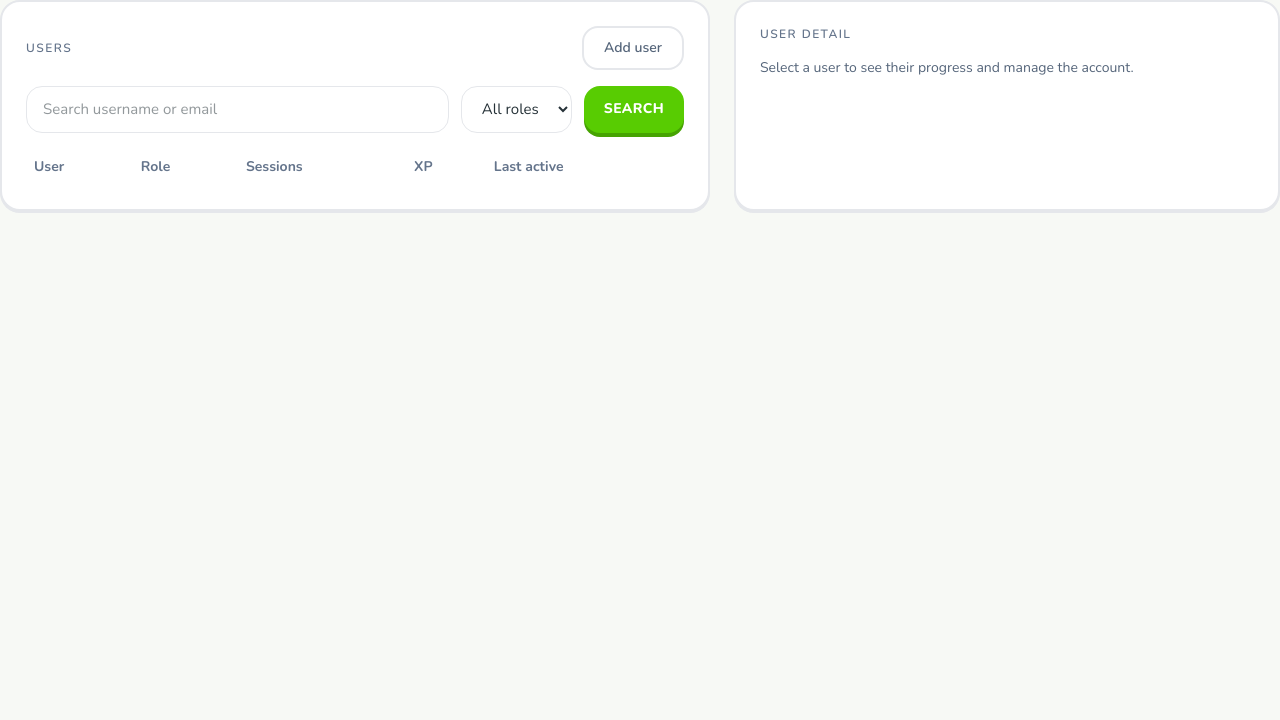
Test: UsersTab › creates an administrator through the admin-only API with the role the admin picked
Click the button "Add user" at [633, 48], box [582,26,684,70]
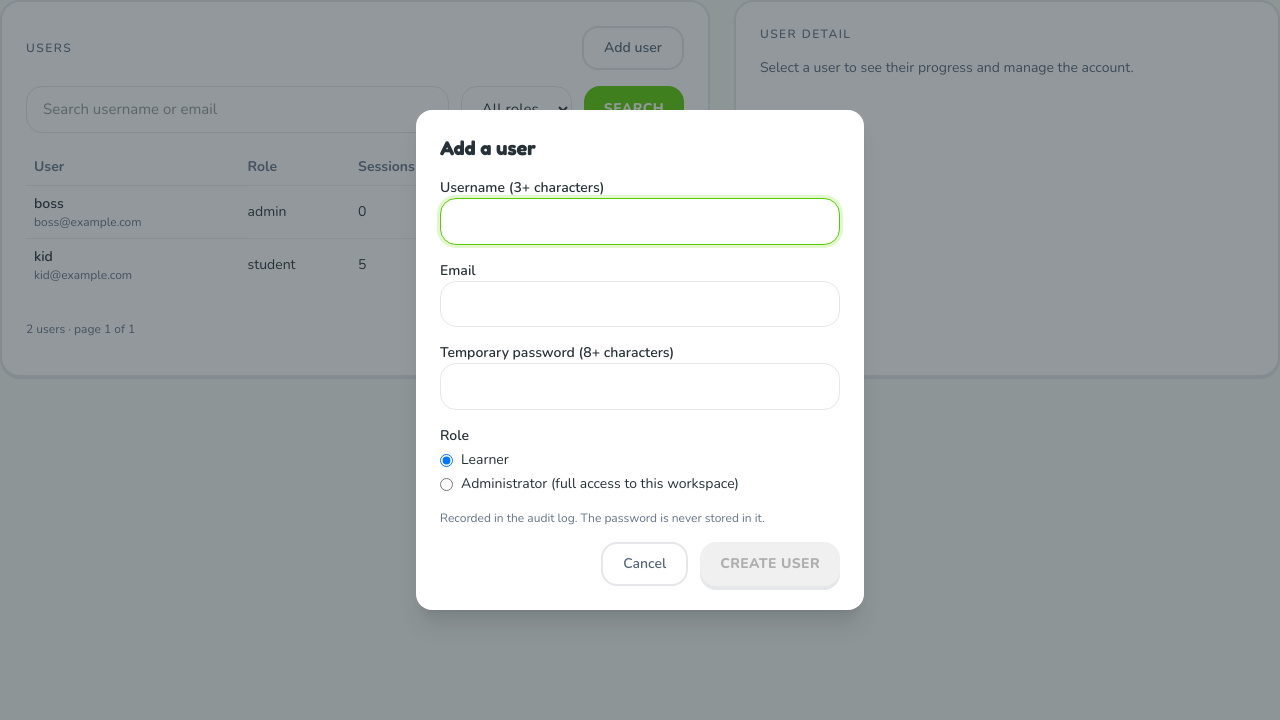
Now the button "Create user" is disabled, box [700,542,840,586]
Type "newadmin" into the field labelled "Username (3+ characters)" at [640, 221], box [440,198,840,245]
Type "n@example.com" into the field labelled "Email" at [640, 304], box [440,281,840,328]
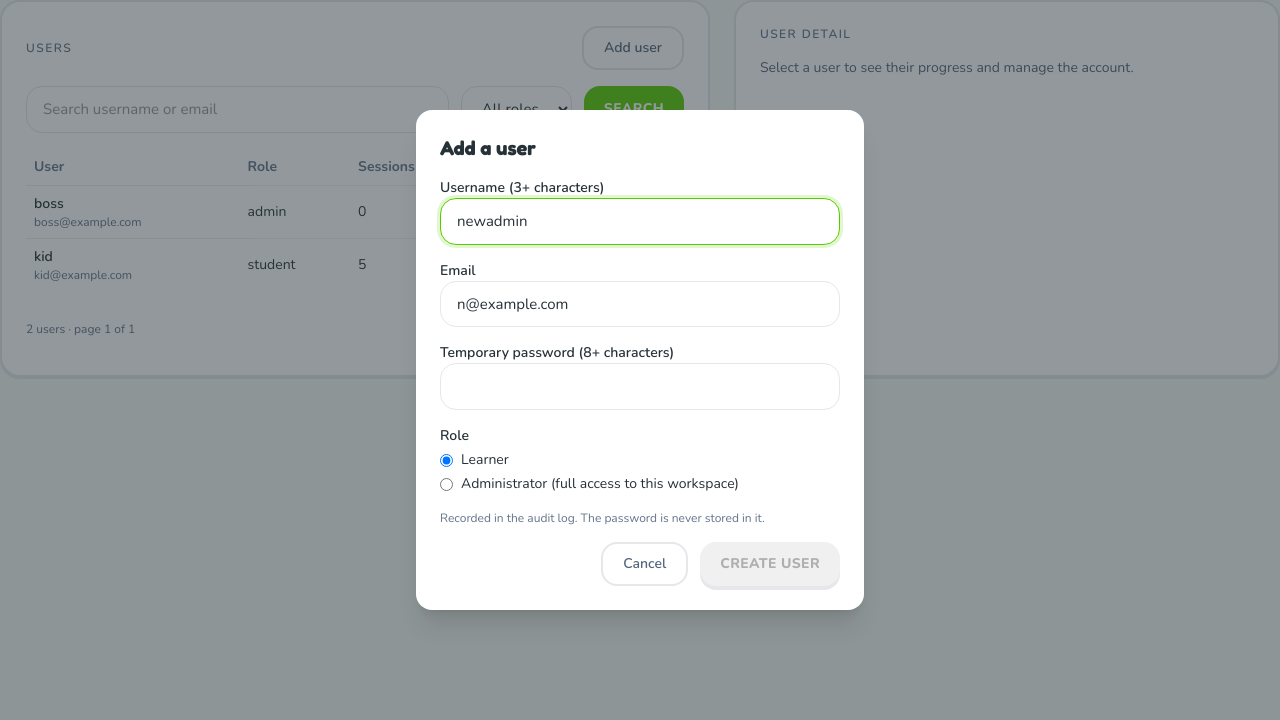
Type "short" into the password field labelled "Temporary password (8+ characters)" at [640, 387], box [440,363,840,410]
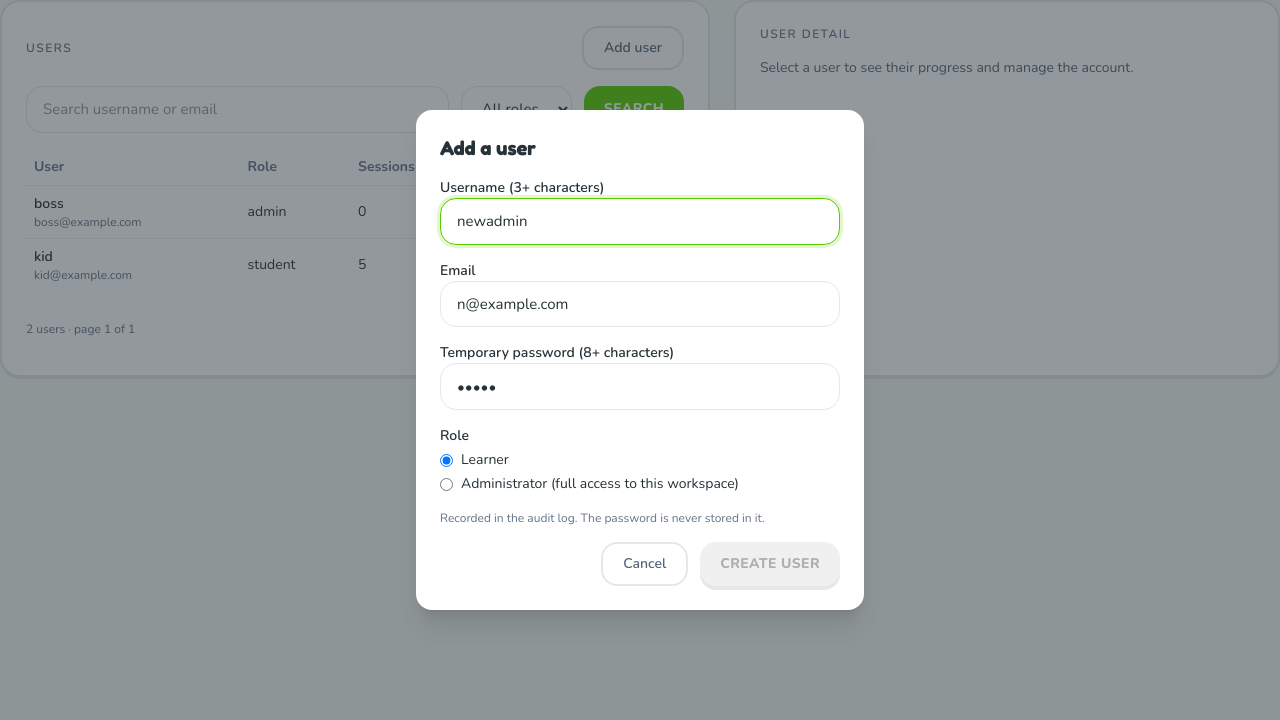
Now the button "Create user" is disabled, box [700,542,840,586]
Type "long-enough-1" into the password field labelled "Temporary password (8+ characters)" at [640, 387], box [440,363,840,410]
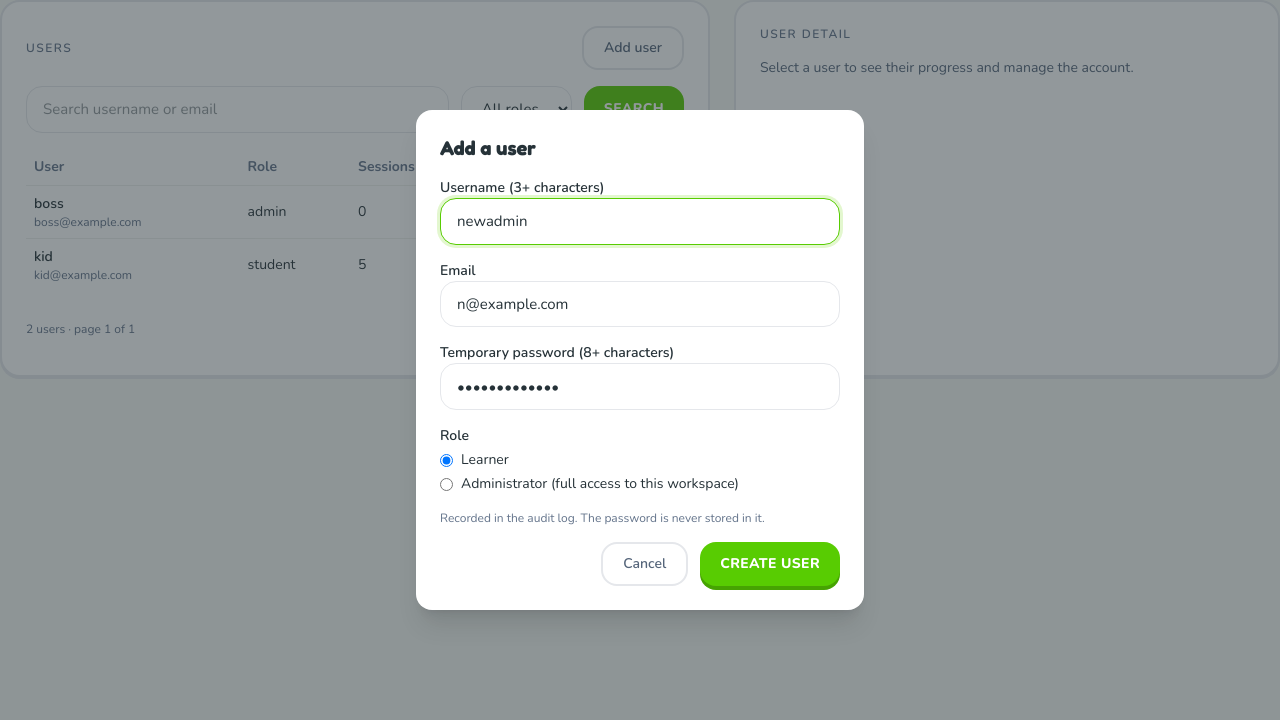
Click the radio button labelled "Administrator (full access to this workspace)" at [446, 484], box [440,478,453,491]
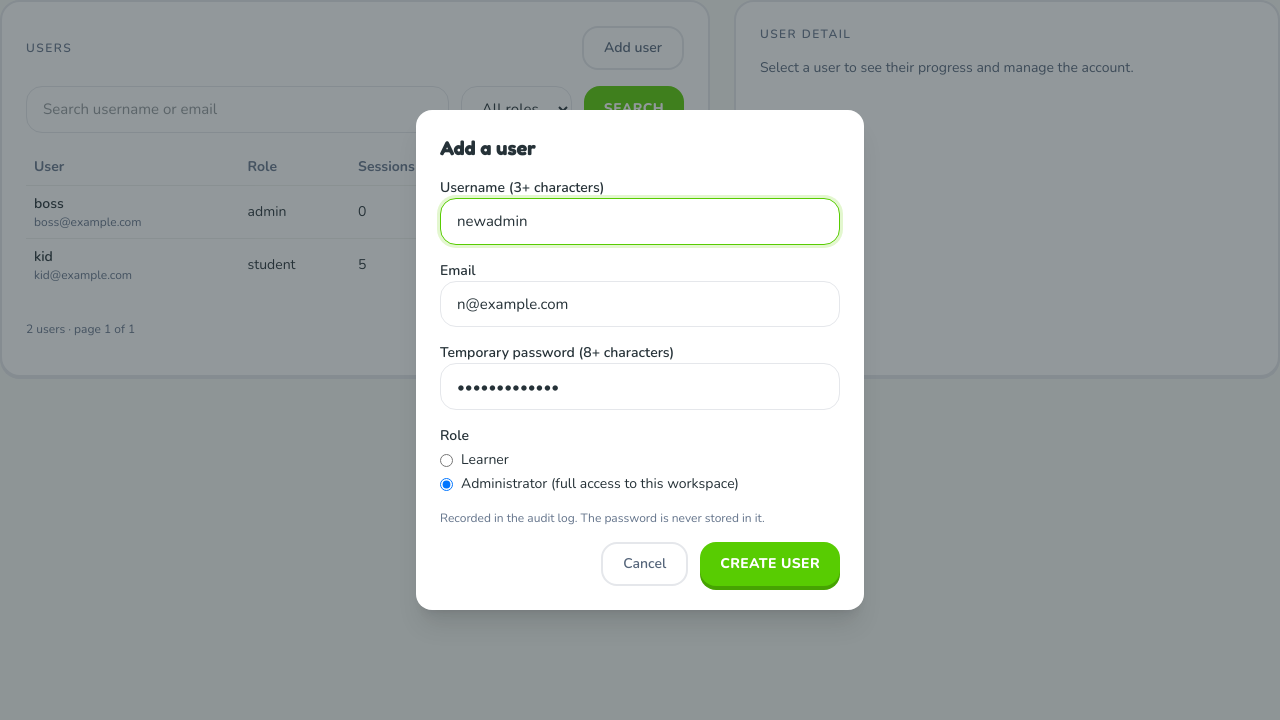
Click the button "Create user" at [770, 564], box [700,542,840,586]
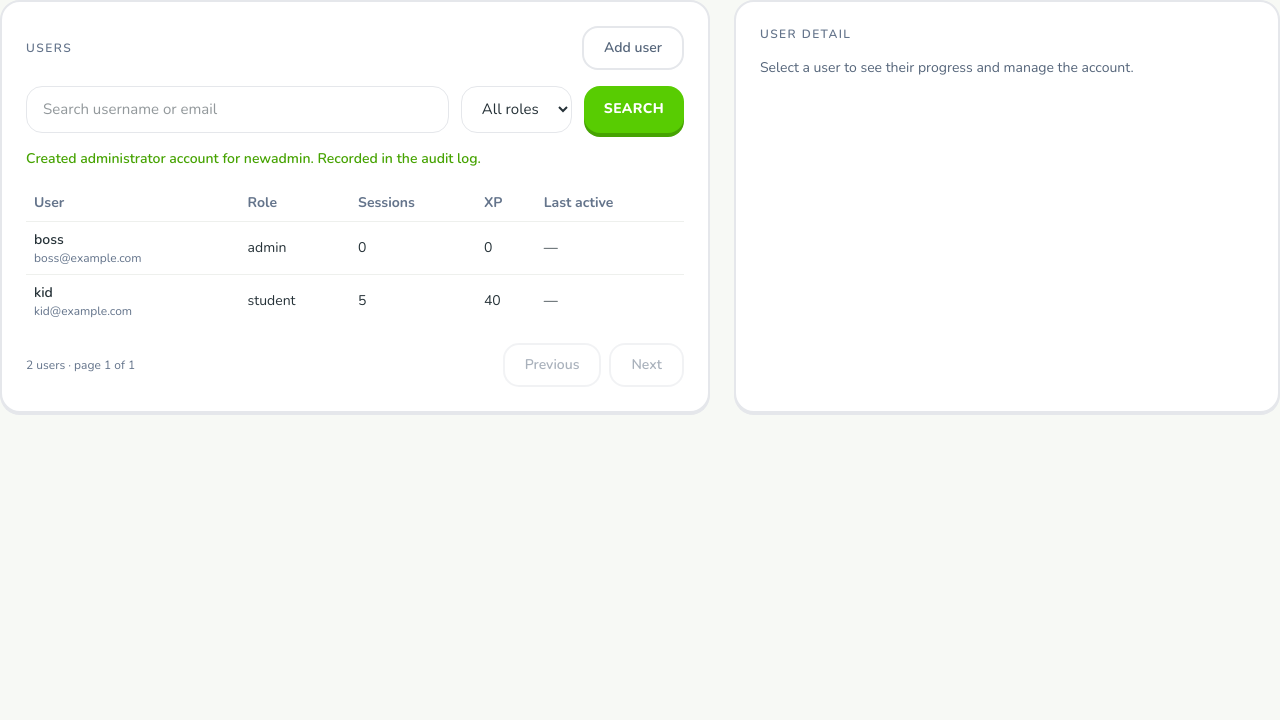
Now the message shows "Created administrator account for newadmin", box [26,149,481,168]
